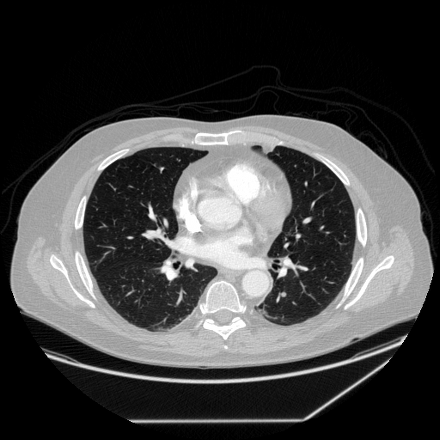nodule: (280, 291, 286, 297)
